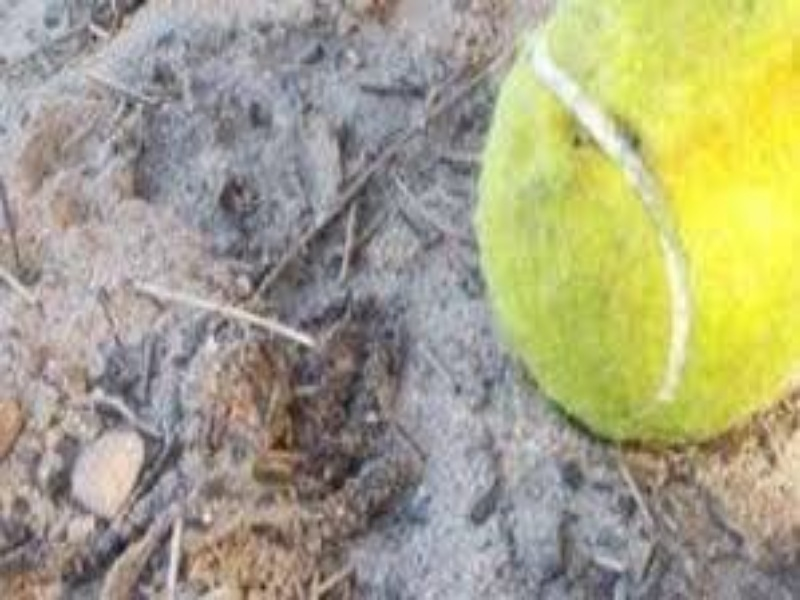tennis ball: (475, 4, 800, 436)
